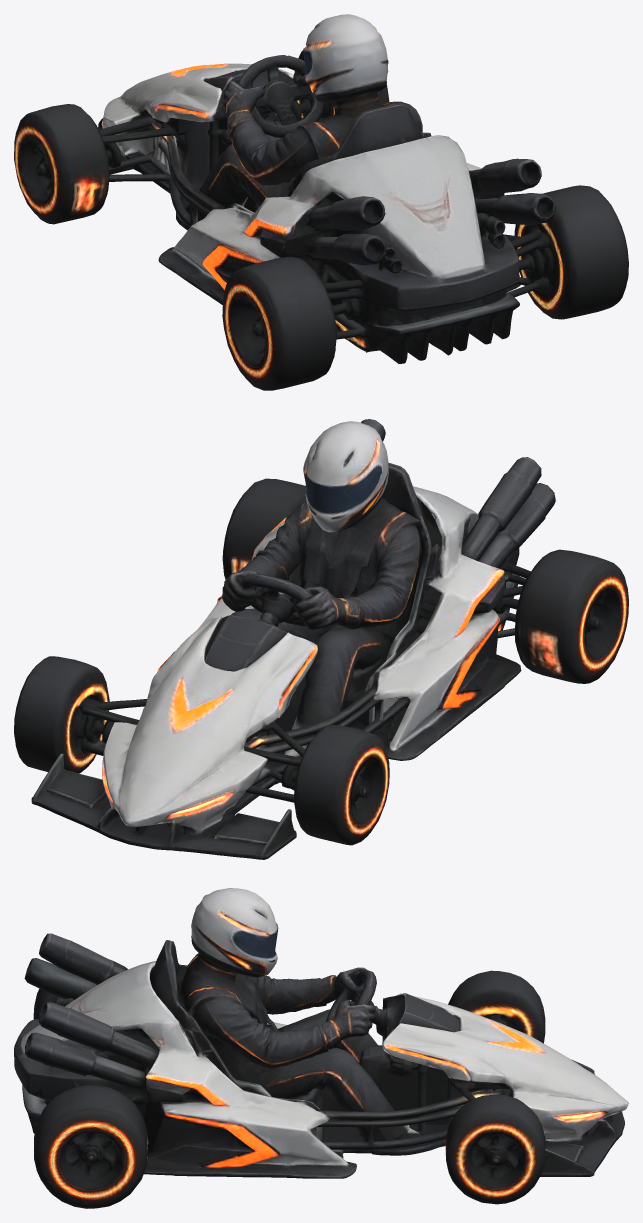
File: obsidian-final.glb
The picture shows the model from 3 angles, top to bottom: view 1: azimuth 30°, elevation 25°; view 2: azimuth 150°, elevation 25°; view 3: azimuth 270°, elevation 25°; orthographic projection. The views are drawn at different scales.
Visible parts, largest first — view 1: chassis, wheel-rl, wheel-rr, wheel-fl; view 2: chassis, wheel-rl, wheel-fl, wheel-fr, wheel-rr; view 3: chassis, wheel-rr, wheel-fr, wheel-fl.
Part boxes in pixels (left/top/right/bottom): chassis: left=98, top=14, right=555, bottom=363; wheel-rl: left=222, top=256, right=336, bottom=390; wheel-rr: left=514, top=185, right=628, bottom=319; wheel-fl: left=14, top=104, right=109, bottom=224; chassis: left=31, top=419, right=555, bottom=859; wheel-rl: left=514, top=549, right=628, bottom=683; wheel-fl: left=294, top=725, right=389, bottom=845; wheel-fr: left=14, top=656, right=109, bottom=773; wheel-rr: left=222, top=478, right=305, bottom=579; chassis: left=14, top=888, right=628, bottom=1178; wheel-rr: left=34, top=1085, right=148, bottom=1208; wheel-fr: left=445, top=1094, right=545, bottom=1204; wheel-fl: left=448, top=970, right=545, bottom=1043.
Bounding box in the file's own units: 2.71 × 1.97 × 4.5.
Materials: 1 (1 with a texture image).
